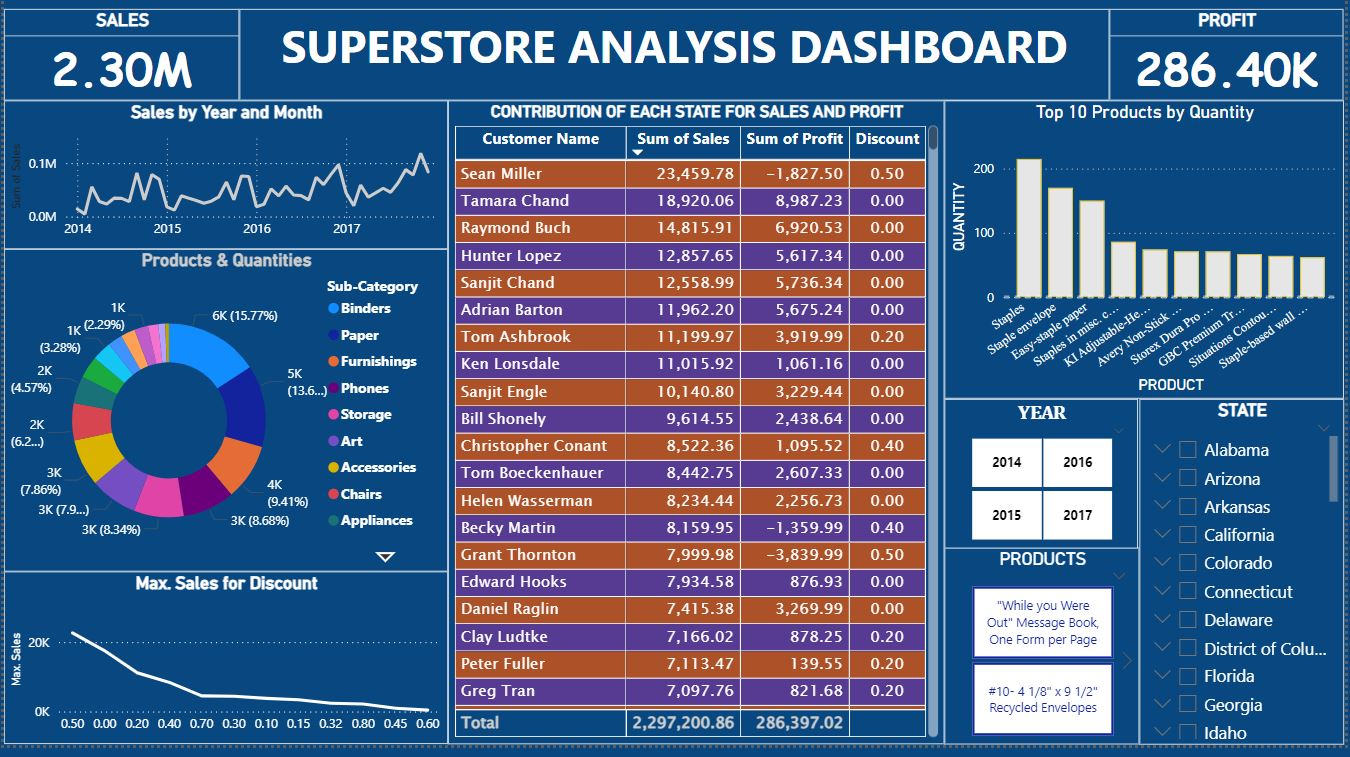

This screenshot's page, from the dashboard's own definition file:
{"tool":"powerbi","page":{"name":"Page 1","canvas":[1280,720],"ordinal":0},"visuals":[{"type":"textbox","box":[224.9,17.2,830.8,87.4],"z":0},{"type":"columnChart","title":"Top 10 Products by Quantity","fields":{"Category":["Sample - Superstore.Product Name"],"Y":["Sample - Superstore.Quantity"]},"box":[897.9,104.5,381.6,284.7],"z":1000},{"type":"tableEx","title":"CONTRIBUTION OF EACH STATE FOR SALES AND PROFIT","fields":{"Values":["Sample - Superstore.Customer Name","Sample - Superstore.Sales","Sample - Superstore.Profit","Sample - Superstore.Discount"]},"box":[424,104.6,474.1,614.5],"z":2000},{"type":"card","title":"PROFIT","fields":{"Values":["Sample - Superstore.Profit"]},"box":[1055.7,17.2,223.5,87.4],"z":3000},{"type":"card","title":"SALES","fields":{"Values":["Sample - Superstore.Sales"]},"box":[0,17.2,224.9,87.4],"z":4000},{"type":"lineChart","title":"Sales by Year and Month","fields":{"Category":["Sample - Superstore.Order Date.Variation.Date Hierarchy.Year","Sample - Superstore.Order Date.Variation.Date Hierarchy.Month"],"Y":["Sample - Superstore.Sales"]},"box":[0,104.6,424,141.8],"z":5000},{"type":"donutChart","title":"Products & Quantities","fields":{"Category":["Sample - Superstore.Sub-Category"],"Y":["Sample - Superstore.Quantity"]},"box":[0,246.4,424,308],"z":6000},{"type":"slicer","title":"STATE","fields":{"Values":["Sample - Superstore.State","Sample - Superstore.City"]},"box":[1084.2,389.2,195.3,330.1],"z":7000},{"type":"slicer","title":"PRODUCTS","fields":{"Values":["Sample - Superstore.Product Name"]},"box":[897.9,531.5,186.2,187.8],"z":8000},{"type":"slicer","title":"YEAR","fields":{"Values":["Sample - Superstore.Order Date.Variation.Date Hierarchy.Year"]},"box":[897.9,389.2,184.7,142.3],"z":9000},{"type":"lineChart","title":"Max. Sales for Discount","fields":{"Category":["Sample - Superstore.Discount"],"Y":["Sample - Superstore.Sales"]},"box":[0,554.3,424,164.7],"z":10000}]}

Visuals, with their boxes in screenshot pixels (x1, y1, x2, y2), scaled from the page's 1280x720 canvas onto the 1350x757 screenshot:
textbox: bbox=(237, 18, 1113, 110)
"Top 10 Products by Quantity" columnChart: bbox=(947, 110, 1349, 409)
"CONTRIBUTION OF EACH STATE FOR SALES AND PROFIT" tableEx: bbox=(447, 110, 947, 756)
"PROFIT" card: bbox=(1113, 18, 1349, 110)
"SALES" card: bbox=(0, 18, 237, 110)
"Sales by Year and Month" lineChart: bbox=(0, 110, 447, 259)
"Products & Quantities" donutChart: bbox=(0, 259, 447, 583)
"STATE" slicer: bbox=(1143, 409, 1349, 756)
"PRODUCTS" slicer: bbox=(947, 559, 1143, 756)
"YEAR" slicer: bbox=(947, 409, 1142, 559)
"Max. Sales for Discount" lineChart: bbox=(0, 583, 447, 756)
